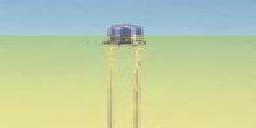LED: (104, 22, 149, 128)
